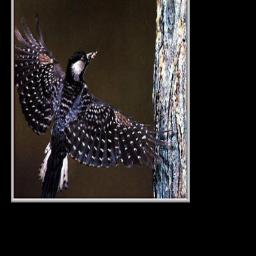Woodpecker: (14, 18, 171, 195)
